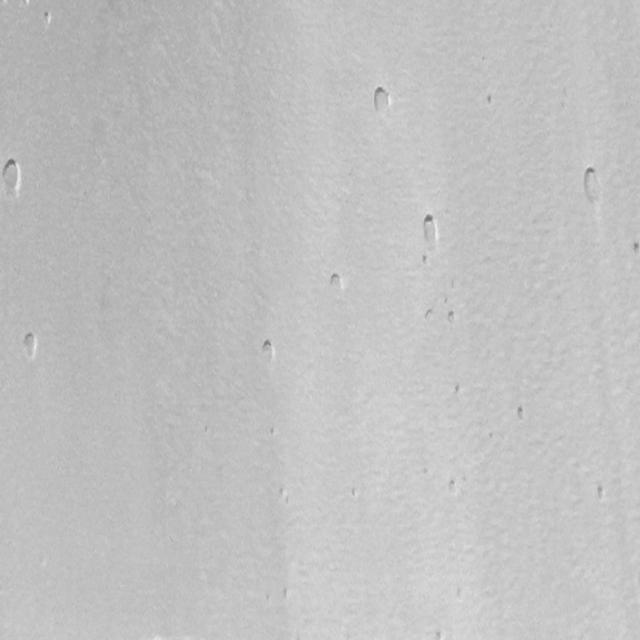pin holes: (417, 210, 442, 252), (579, 165, 604, 206), (4, 155, 25, 197), (370, 83, 394, 117), (19, 328, 41, 361), (257, 337, 280, 366), (326, 270, 346, 296), (593, 482, 612, 507), (444, 476, 463, 500), (275, 486, 294, 508), (450, 381, 466, 403), (514, 404, 530, 423), (444, 309, 460, 328), (421, 305, 436, 324), (42, 8, 55, 29), (280, 584, 292, 602), (483, 93, 495, 110), (630, 240, 640, 258), (348, 485, 360, 500), (434, 627, 448, 639), (264, 590, 276, 604), (421, 255, 430, 268)
